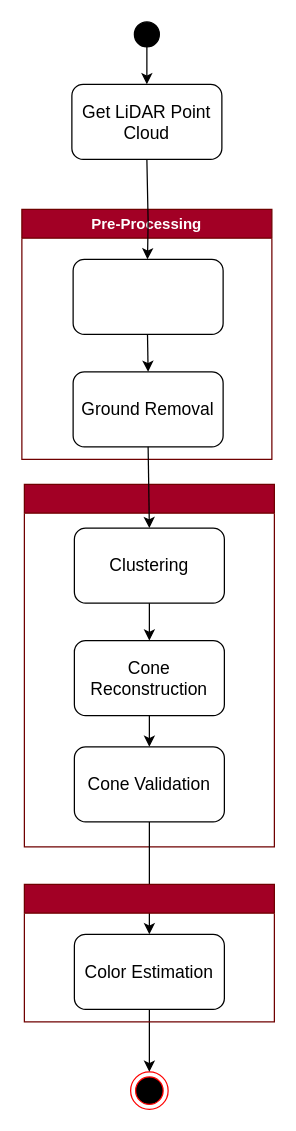
Some shapes in this 296 by 1131 pixel diagram are drawn without their labels. Each missing label, with the box of its shape:
Cone Detection: (23, 483, 274, 847)
Feature Extraction: (23, 883, 274, 1022)
Velocity Correction: (72, 258, 223, 334)
